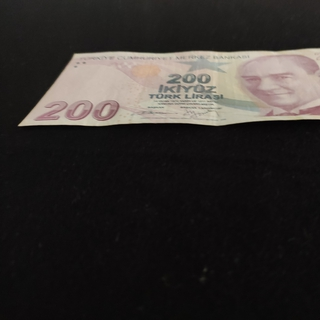200TLFront: (17, 47, 320, 126)
